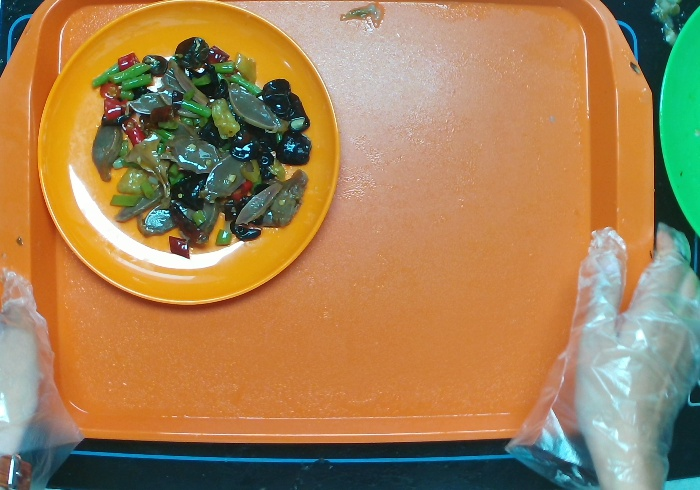HZYJPL-Ju_Huang_Yuan_Pan: (36, 1, 341, 306)
